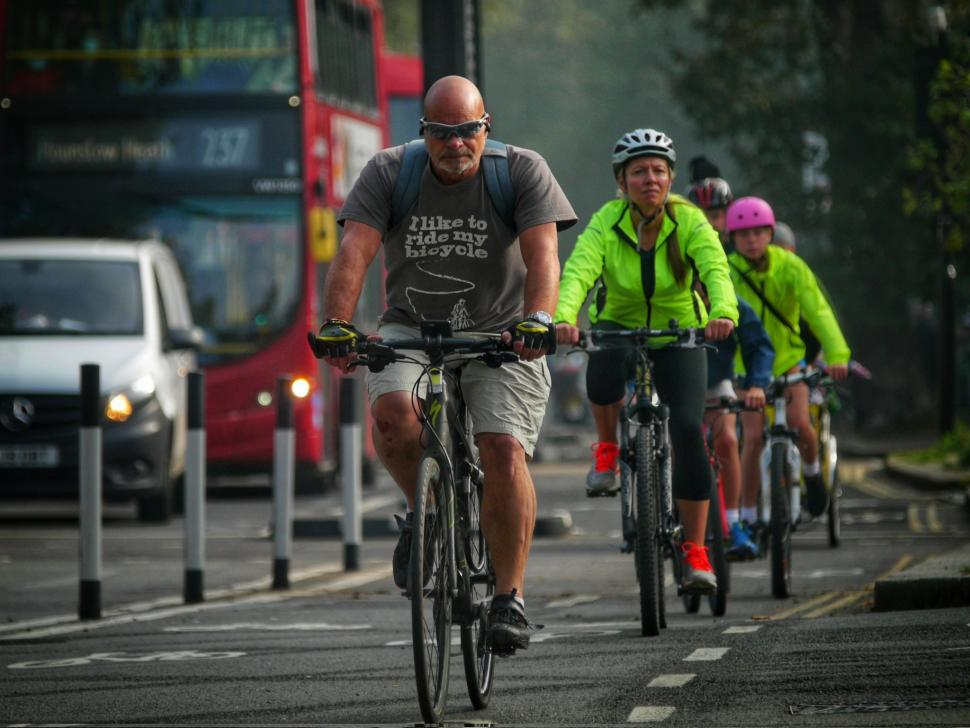person: (319, 81, 561, 453), (561, 151, 733, 399)
